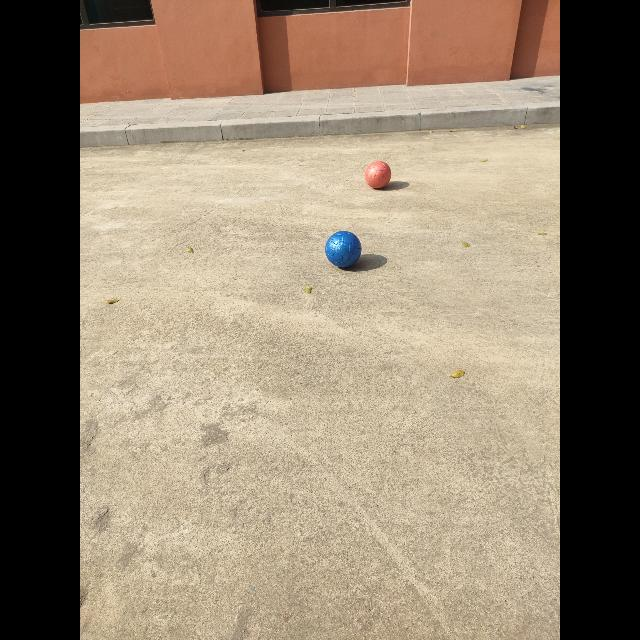B: (325, 231, 361, 268)
R: (365, 161, 391, 189)
